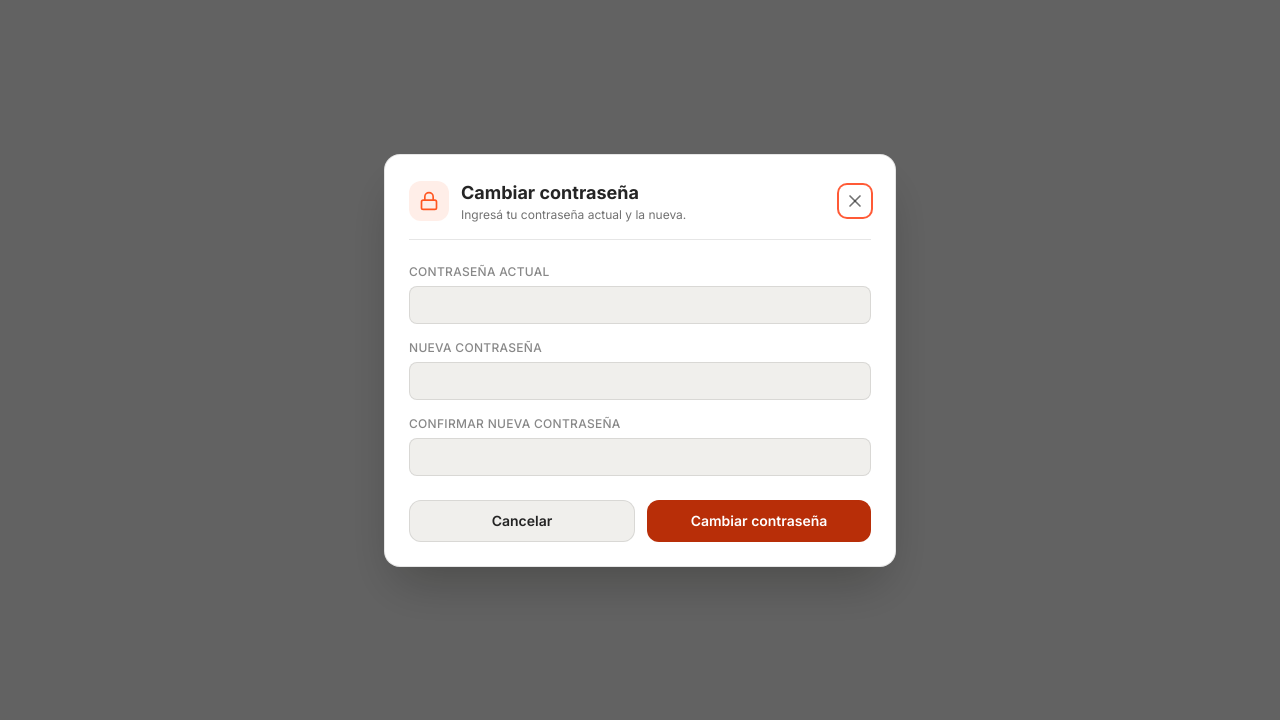
Scenario: ChangePasswordModal › shows validation error when new password is too short
The image size is (1280, 720).
Step 1. Type "short" into the 2nd password field → (640, 380), box [409, 362, 871, 400]
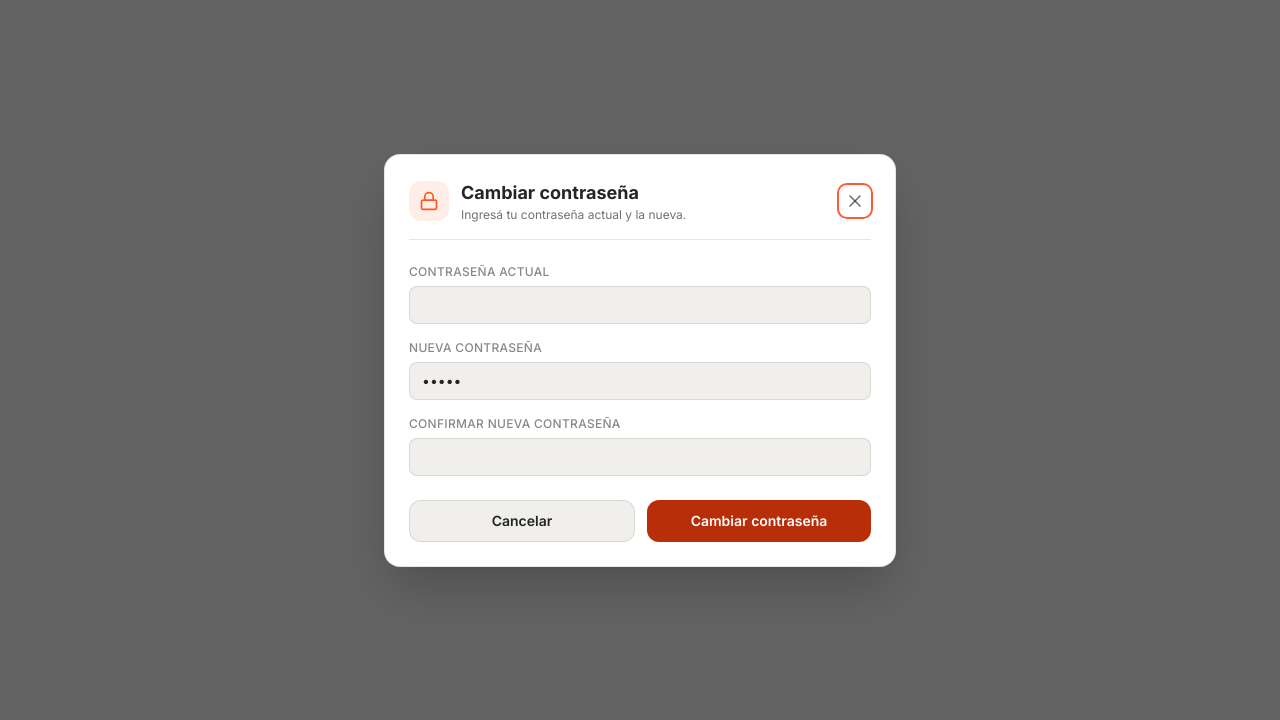
Step 2. Click the button "Cambiar contraseña" → click(759, 520), box [647, 500, 871, 542]
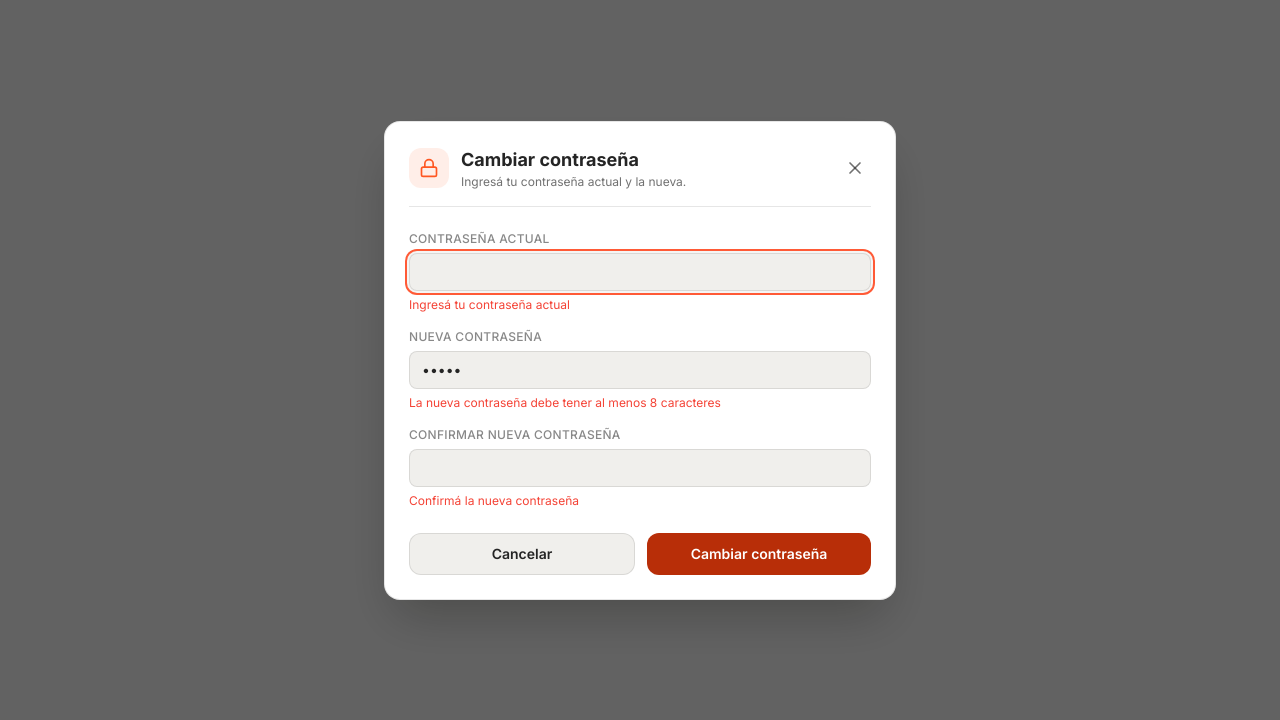
Expected: the text "La nueva contraseña debe tener al menos 8 caracteres" is shown, [409, 394, 721, 410]
